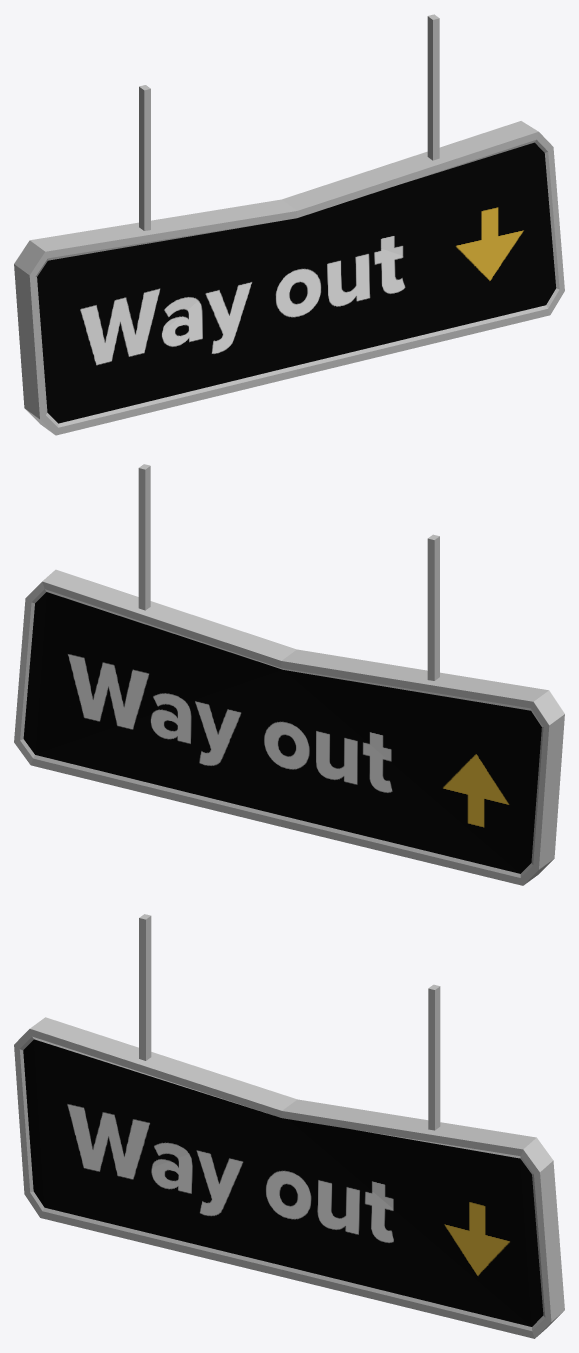
Rendered from SM_Direction_Indicator_02.fbx.
3 views of the same model, one above another, from view 1: azimuth 30°, elevation 25°; view 2: azimuth 150°, elevation 25°; view 3: azimuth 330°, elevation 25° (orthographic).
Parts seen in each view (by area): view 1: SM_Direction_Indicator_02; view 2: SM_Direction_Indicator_02; view 3: SM_Direction_Indicator_02.
Boxes of the visible parts, bbox=[...] form: SM_Direction_Indicator_02: bbox=[14, 14, 564, 435]; SM_Direction_Indicator_02: bbox=[14, 464, 564, 885]; SM_Direction_Indicator_02: bbox=[14, 914, 564, 1338].
Size of the model in its own units: 72.06 by 40.93 by 3.91.
